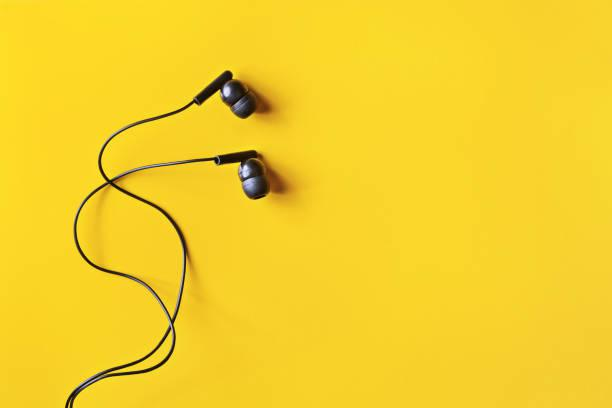headphone: (186, 63, 292, 230)
